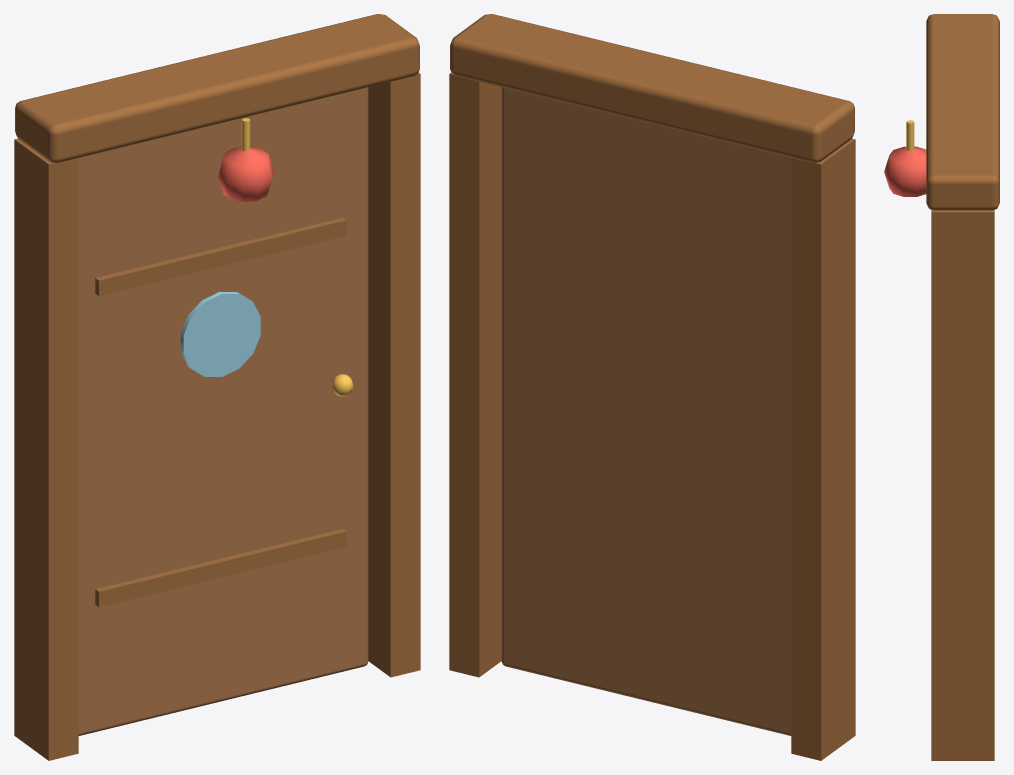
File: cua-go-den-treo.glb
3 renders of one model, left to right at view 1: azimuth 30°, elevation 25°; view 2: azimuth 150°, elevation 25°; view 3: azimuth 270°, elevation 25°, orthographic. The views are drawn at different scales.
Parts seen in each view (by area): view 1: canh, khung-trai, khung-phai, mi-cua, o-kinh, nep-tren, nep-duoi, den; view 2: canh, khung-trai, khung-phai, mi-cua; view 3: khung-phai, mi-cua, den, moc-den.
Part boxes in pixels (left/top/right/bottom): canh: left=78, top=87, right=368, bottom=735; khung-trai: left=14, top=138, right=78, bottom=760; khung-phai: left=368, top=73, right=420, bottom=677; mi-cua: left=15, top=14, right=419, bottom=162; o-kinh: left=180, top=292, right=260, bottom=376; nep-tren: left=95, top=217, right=346, bottom=295; nep-duoi: left=95, top=529, right=346, bottom=607; den: left=218, top=147, right=273, bottom=201; canh: left=501, top=87, right=791, bottom=735; khung-trai: left=791, top=138, right=855, bottom=760; khung-phai: left=449, top=73, right=501, bottom=677; mi-cua: left=450, top=14, right=854, bottom=162; khung-phai: left=931, top=209, right=994, bottom=760; mi-cua: left=926, top=14, right=999, bottom=210; den: left=884, top=146, right=926, bottom=196; moc-den: left=906, top=120, right=914, bottom=150.
Bounding box in the file's own units: 1.5 × 2.44 × 0.44.
